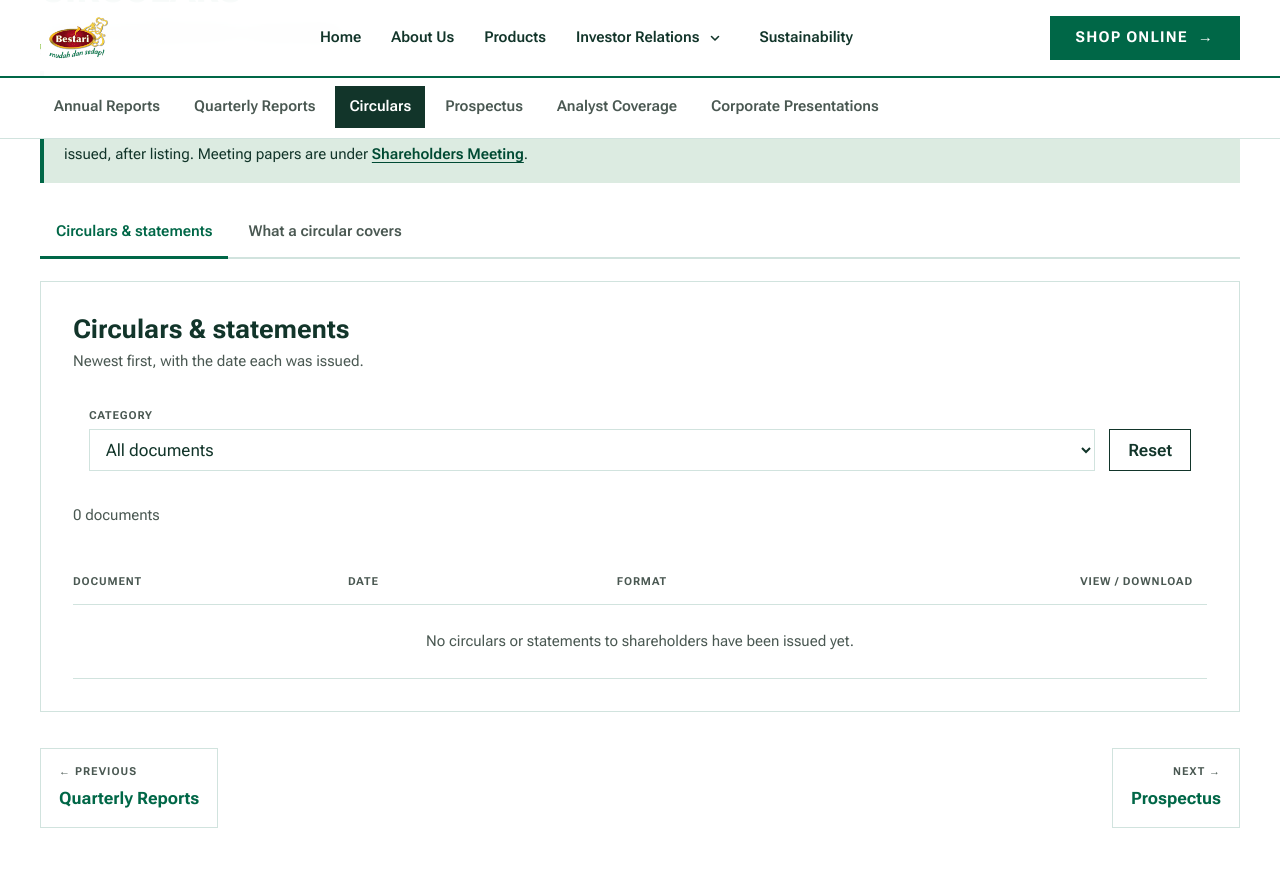
Scenario: Circulars › shows an empty document table that filters by category
The image size is (1280, 887).
(page scrolled)
Expected: the element "What a circular can cover" is not shown
Expected: the table named "Circulars and statements to shareholders" shows "No circulars or statements to shareholders have been issued yet.", [426,632,854,650]
Step 1. Select "Statements to shareholders" in the dropdown labelled "Category" → (592, 450), box [89,429,1095,471]
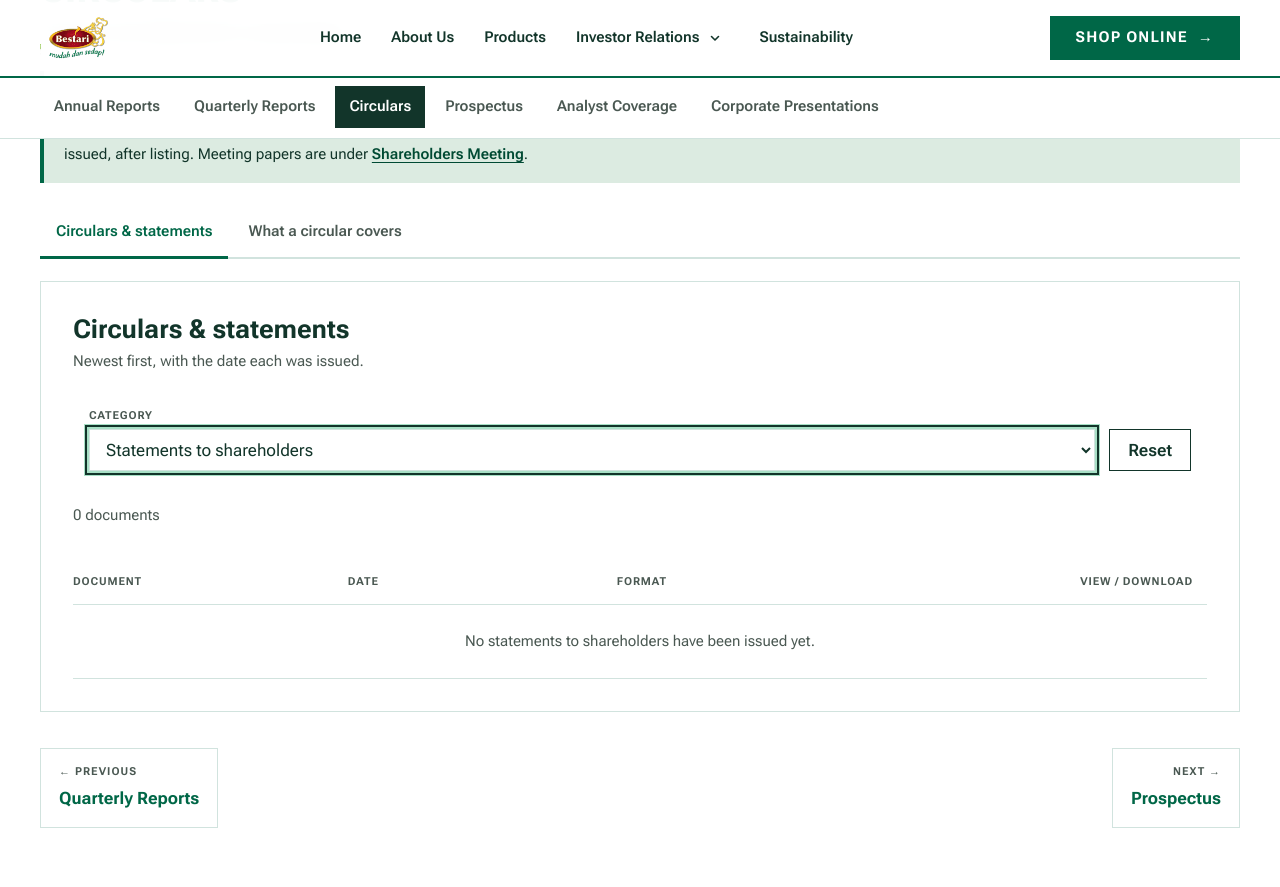
Result: the table named "Circulars and statements to shareholders" shows "No statements to shareholders have been issued yet." at [465,632,815,650]
Step 2. Click the button "Reset" → (1150, 450), box [1109,429,1191,471]
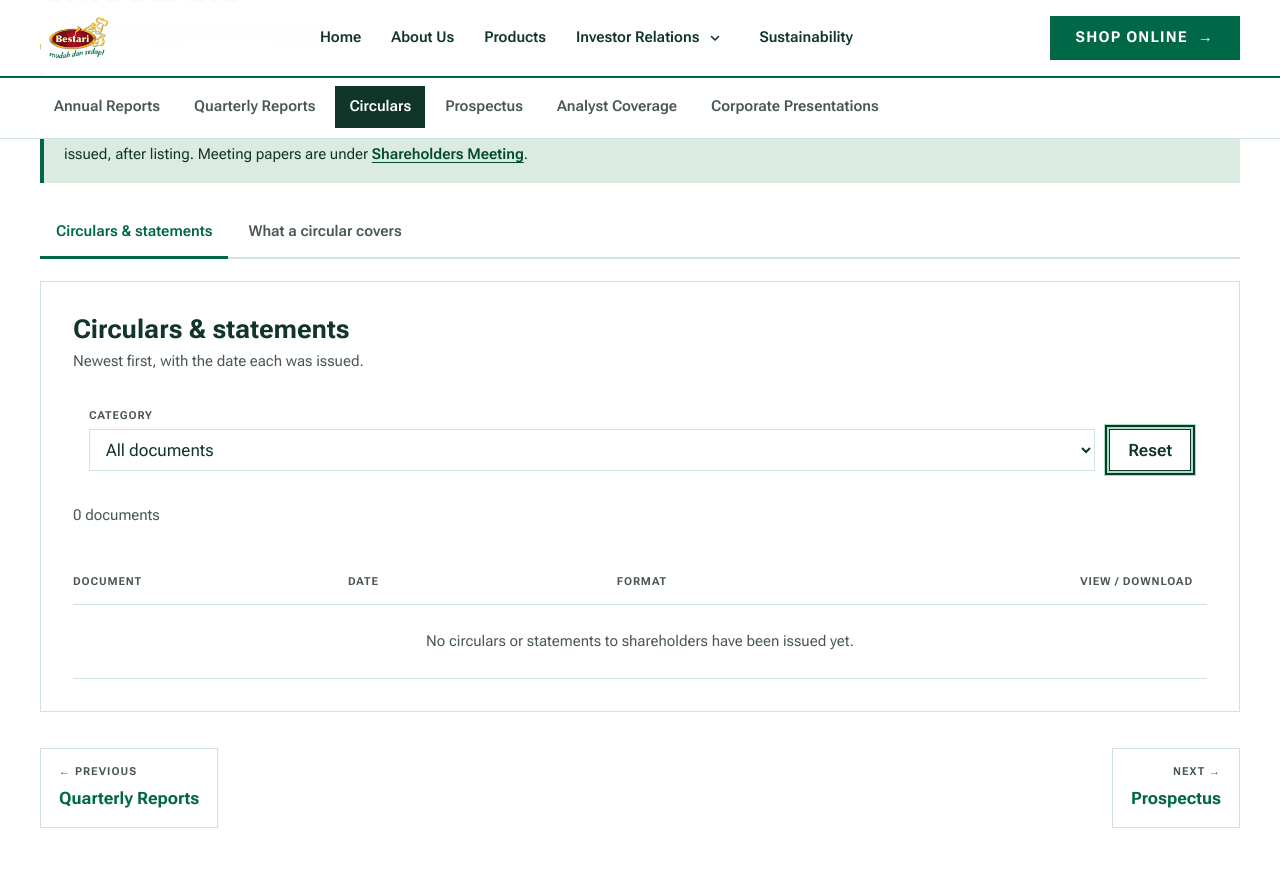
Step 3. Click the tab "What a circular covers" → (325, 233), box [232,207,418,259]
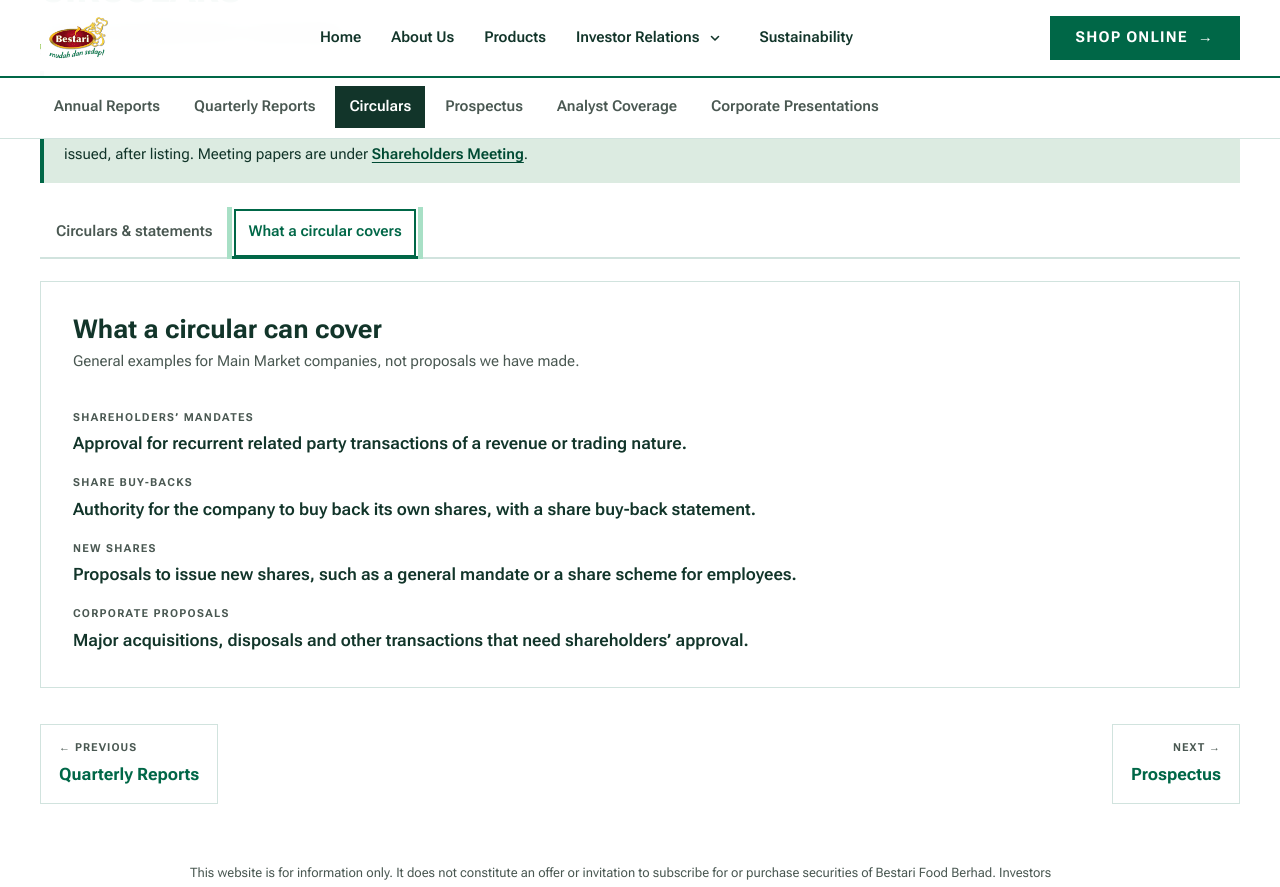
Result: the element "What a circular can cover" is shown at [40,281,1240,688]
